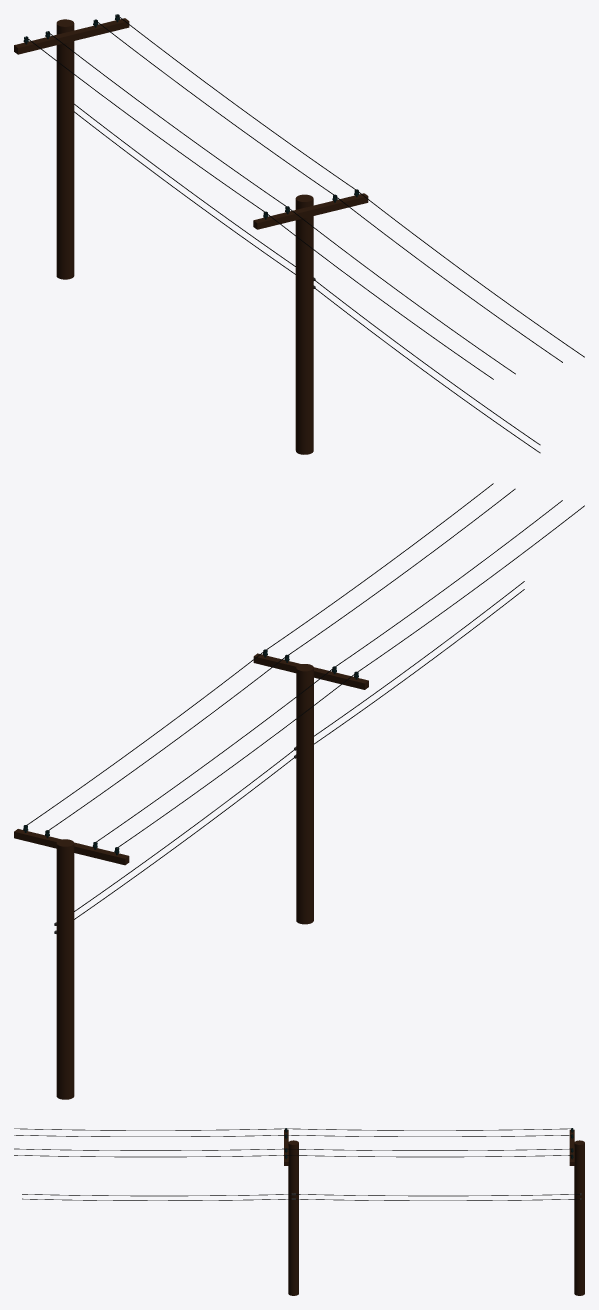
The model's file is Pole_2.fbx.
3 views of the same model, one above another, from view 1: azimuth 30°, elevation 25°; view 2: azimuth 150°, elevation 25°; view 3: azimuth 270°, elevation 25° (orthographic). The views are drawn at different scales.
Parts seen in each view (by area): view 1: polySurface223; view 2: polySurface223; view 3: polySurface223.
Part boxes in pixels (bbox=[...]): polySurface223: bbox=[14, 14, 584, 454]; polySurface223: bbox=[14, 483, 584, 1099]; polySurface223: bbox=[14, 1128, 584, 1295].
Bounding box in the file's own units: 3.24 × 7.09 × 24.14.
